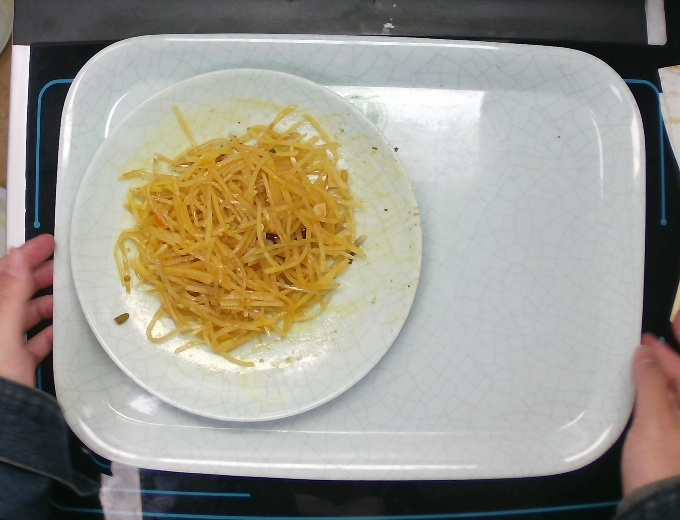JYsf-Da_Yuan_Pan: (65, 62, 428, 427)
